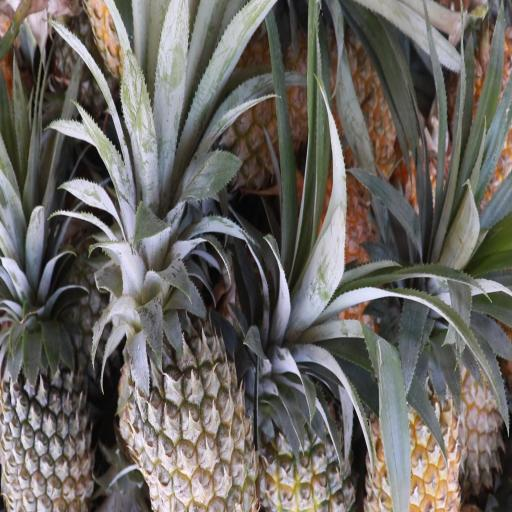Pineapple - v8 v1: (366, 293, 466, 512)
